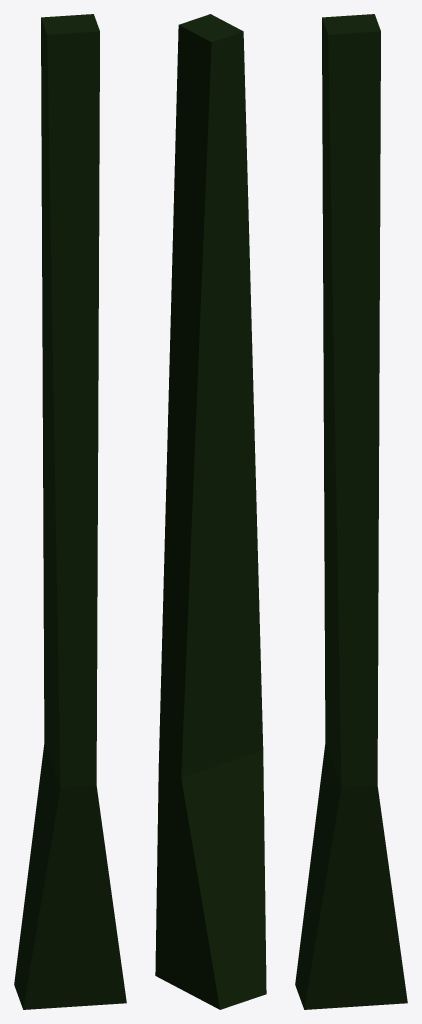
File: g4-green.obj
3 renders of one model, left to right at view 1: azimuth 90°, elevation 25°; view 2: azimuth 210°, elevation 25°; view 3: azimuth 270°, elevation 25°, orthographic.
Parts seen in each view (by area): view 1: g4-green_Cube.007; view 2: g4-green_Cube.007; view 3: g4-green_Cube.007.
Part boxes in pixels (x1,y1,x2,y2): g4-green_Cube.007: [14, 14, 126, 1009]; g4-green_Cube.007: [155, 14, 266, 1009]; g4-green_Cube.007: [295, 14, 407, 1009].
Bounding box in the file's own units: 0.1962 × 1.89 × 0.1996.
